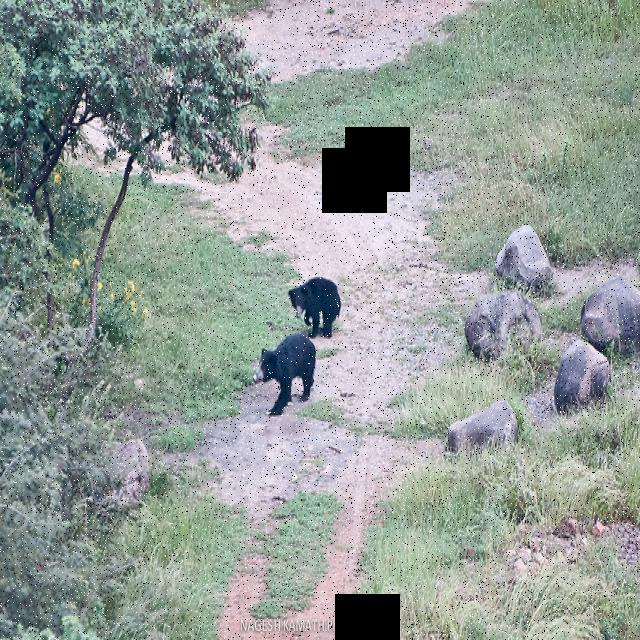Bear: (249, 331, 318, 415), (284, 264, 344, 337)
